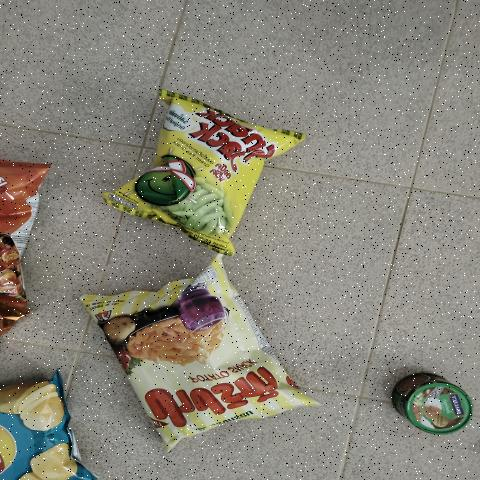paprika: (132, 273, 268, 438)
snack_jack: (118, 120, 267, 198)
